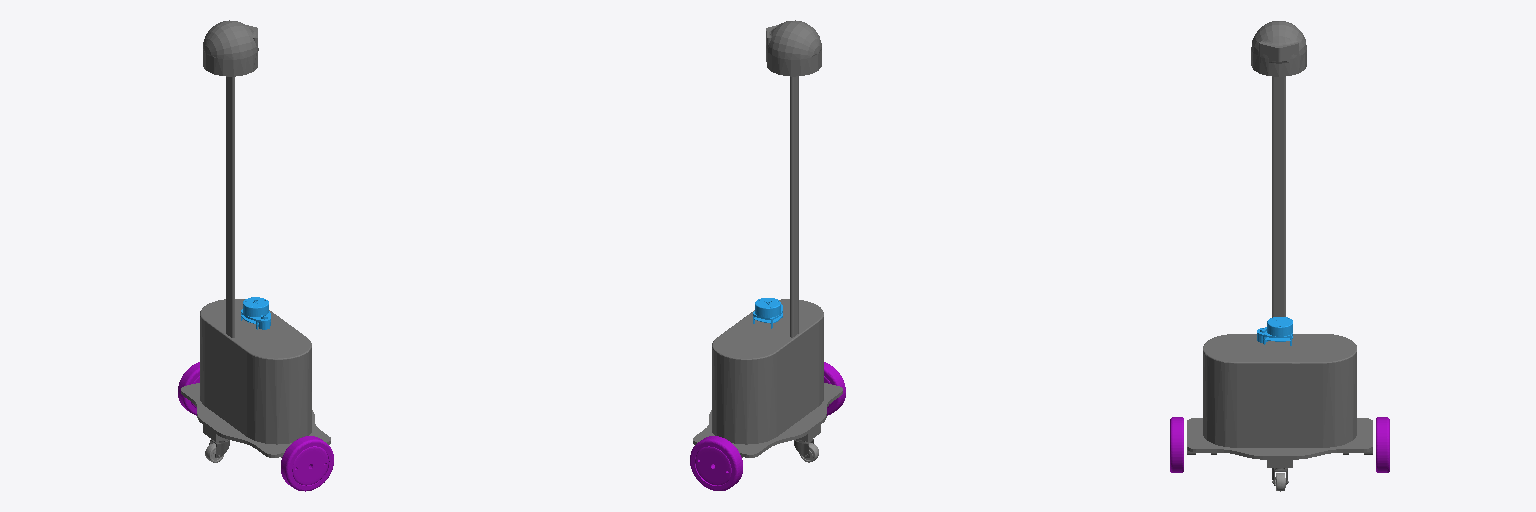
The robot description file, URDF, robot "AEP_Robot":
<?xml version="1.0" encoding="utf-8"?>
<!-- This URDF was automatically created by SolidWorks to URDF Exporter! Originally created by [author] ([email redacted]) 
     Commit Version: 1.6.0-1-g15f4949  Build Version: 1.6.7594.29634
     For more information, please see http://wiki.ros.org/sw_urdf_exporter -->
<robot
  name="AEP_Robot">
  <link
    name="base_link">
    <inertial>
      <origin
        xyz="-0.0023189 0.0073427 0.1843"
        rpy="0 0 0" />
      <mass
        value="15.896" />
      <inertia
        ixx="0.65725"
        ixy="-3.6456E-08"
        ixz="0.040641"
        iyy="0.58335"
        iyz="-2.2784E-12"
        izz="0.1582" />
    </inertial>
    <visual>
      <origin
        xyz="0 0 0"
        rpy="0 0 0" />
      <geometry>
        <mesh
          filename="package://AEP_Robot/meshes/base_link.STL" />
      </geometry>
      <material
        name="">
        <color
          rgba="0.5 0.5 0.5 1" />
      </material>
    </visual>
    <collision>
      <origin
        xyz="0 0 0"
        rpy="0 0 0" />
      <geometry>
        <mesh
          filename="package://AEP_Robot/meshes/base_link.STL" />
      </geometry>
    </collision>
  </link>
  <link
    name="lidar_link">
    <inertial>
      <origin
        xyz="-9.1926E-05 -0.0067665 -0.0073819"
        rpy="0 0 0" />
      <mass
        value="1.3308" />
      <inertia
        ixx="0.0009607"
        ixy="8.0198E-07"
        ixz="-3.0916E-06"
        iyy="0.00061492"
        iyz="-0.00015824"
        izz="0.0010982" />
    </inertial>
    <visual>
      <origin
        xyz="0 0 0"
        rpy="0 0 0" />
      <geometry>
        <mesh
          filename="package://AEP_Robot/meshes/lidar_link.STL" />
      </geometry>
      <material
        name="">
        <color
          rgba="0.2 0.7 1 1" />
      </material>
    </visual>
    <collision>
      <origin
        xyz="0 0 0"
        rpy="0 0 0" />
      <geometry>
        <mesh
          filename="package://AEP_Robot/meshes/lidar_link.STL" />
      </geometry>
    </collision>
  </link>
  <joint
    name="lidar_joint"
    type="fixed">
    <origin
      xyz="0 0.000420393431200835 0.32565"
      rpy="0 0 0" />
    <parent
      link="base_link" />
    <child
      link="lidar_link" />
    <axis
      xyz="0 0 0" />
  </joint>
  <link
    name="left_wheel_link">
    <inertial>
      <origin
        xyz="8.211E-08 -0.017522 -4.1793E-07"
        rpy="0 0 0" />
      <mass
        value="0.583" />
      <inertia
        ixx="0.00092026"
        ixy="2.1255E-10"
        ixz="8.2654E-07"
        iyy="0.0017198"
        iyz="-1.099E-09"
        izz="0.00091447" />
    </inertial>
    <visual>
      <origin
        xyz="0 0 0"
        rpy="0 0 0" />
      <geometry>
        <mesh
          filename="package://AEP_Robot/meshes/left_wheel_link.STL" />
      </geometry>
      <material
        name="">
        <color
          rgba="0.7 0.1 0.8 1" />
      </material>
    </visual>
    <collision>
      <origin
        xyz="0 0 0"
        rpy="0 0 0" />
      <geometry>
        <mesh
          filename="package://AEP_Robot/meshes/left_wheel_link.STL" />
      </geometry>
    </collision>
  </link>
  <joint
    name="left_wheel_joint"
    type="continuous">
    <origin
      xyz="0 0.29485 -0.025"
      rpy="0 0 0" />
    <parent
      link="base_link" />
    <child
      link="left_wheel_link" />
    <axis
      xyz="0 1 0" />
    <limit
      lower="0"
      upper="0"
      effort="0"
      velocity="0" />
  </joint>
  <link
    name="right_wheel_link">
    <inertial>
      <origin
        xyz="3.8174E-07 0.017522 1.8833E-07"
        rpy="0 0 0" />
      <mass
        value="0.583" />
      <inertia
        ixx="0.00091579"
        ixy="-1.3235E-09"
        ixz="-2.5693E-06"
        iyy="0.0017198"
        iyz="-7.3676E-10"
        izz="0.00091893" />
    </inertial>
    <visual>
      <origin
        xyz="0 0 0"
        rpy="0 0 0" />
      <geometry>
        <mesh
          filename="package://AEP_Robot/meshes/right_wheel_link.STL" />
      </geometry>
      <material
        name="">
        <color
          rgba="0.7 0.1 0.8 1" />
      </material>
    </visual>
    <collision>
      <origin
        xyz="0 0 0"
        rpy="0 0 0" />
      <geometry>
        <mesh
          filename="package://AEP_Robot/meshes/right_wheel_link.STL" />
      </geometry>
    </collision>
  </link>
  <joint
    name="right_wheel_joint"
    type="continuous">
    <origin
      xyz="0 -0.29485 -0.025"
      rpy="0 0 0" />
    <parent
      link="base_link" />
    <child
      link="right_wheel_link" />
    <axis
      xyz="0 1 0" />
    <limit
      lower="0"
      upper="0"
      effort="0"
      velocity="0" />
  </joint>
  <link
    name="front_castor_body_link">
    <inertial>
      <origin
        xyz="0.0055133 0.00033058 -0.0066169"
        rpy="0 0 0" />
      <mass
        value="0.011291" />
      <inertia
        ixx="4.0603E-06"
        ixy="1.367E-08"
        ixz="8.6782E-07"
        iyy="3.8335E-06"
        iyz="5.2075E-08"
        izz="4.4634E-06" />
    </inertial>
    <visual>
      <origin
        xyz="0 0 0"
        rpy="0 0 0" />
      <geometry>
        <mesh
          filename="package://AEP_Robot/meshes/front_castor_body_link.STL" />
      </geometry>
      <material
        name="">
        <color
          rgba="0.4 0.4 0.4 1" />
      </material>
    </visual>
    <collision>
      <origin
        xyz="0 0 0"
        rpy="0 0 0" />
      <geometry>
        <mesh
          filename="package://AEP_Robot/meshes/front_castor_body_link.STL" />
      </geometry>
    </collision>
  </link>
  <joint
    name="front_castor_body_joint"
    type="continuous">
    <origin
      xyz="0.105 0 -0.0415"
      rpy="0 0 0" />
    <parent
      link="base_link" />
    <child
      link="front_castor_body_link" />
    <axis
      xyz="0 0 1" />
    <limit
      lower="0"
      upper="0"
      effort="0"
      velocity="0" />
  </joint>
  <link
    name="front_castor_wheel_link">
    <inertial>
      <origin
        xyz="0.001327 -0.02196 3.518E-06"
        rpy="0 0 0" />
      <mass
        value="0.047259" />
      <inertia
        ixx="9.5221E-06"
        ixy="-2.7895E-07"
        ixz="2.5434E-09"
        iyy="1.4162E-05"
        iyz="1.5234E-10"
        izz="9.4977E-06" />
    </inertial>
    <visual>
      <origin
        xyz="0 0 0"
        rpy="0 0 0" />
      <geometry>
        <mesh
          filename="package://AEP_Robot/meshes/front_castor_wheel_link.STL" />
      </geometry>
      <material
        name="">
        <color
          rgba="0.6 0.6 0.6 1" />
      </material>
    </visual>
    <collision>
      <origin
        xyz="0 0 0"
        rpy="0 0 0" />
      <geometry>
        <mesh
          filename="package://AEP_Robot/meshes/front_castor_wheel_link.STL" />
      </geometry>
    </collision>
  </link>
  <joint
    name="front_castor_wheel_joint"
    type="continuous">
    <origin
      xyz="0.021643 0.023336 -0.033"
      rpy="0 0 0" />
    <parent
      link="front_castor_body_link" />
    <child
      link="front_castor_wheel_link" />
    <axis
      xyz="0.059789 0.99821 0" />
    <limit
      lower="0"
      upper="0"
      effort="0"
      velocity="0" />
  </joint>
  <link
    name="back_castor_body_link">
    <inertial>
      <origin
        xyz="-0.0055142 -0.00031498 -0.0066169"
        rpy="0 0 0" />
      <mass
        value="0.011291" />
      <inertia
        ixx="4.0603E-06"
        ixy="1.3028E-08"
        ixz="-8.6797E-07"
        iyy="3.8334E-06"
        iyz="-4.9618E-08"
        izz="4.4634E-06" />
    </inertial>
    <visual>
      <origin
        xyz="0 0 0"
        rpy="0 0 0" />
      <geometry>
        <mesh
          filename="package://AEP_Robot/meshes/back_castor_body_link.STL" />
      </geometry>
      <material
        name="">
        <color
          rgba="0.4 0.4 0.4 1" />
      </material>
    </visual>
    <collision>
      <origin
        xyz="0 0 0"
        rpy="0 0 0" />
      <geometry>
        <mesh
          filename="package://AEP_Robot/meshes/back_castor_body_link.STL" />
      </geometry>
    </collision>
  </link>
  <joint
    name="back_castor_body_joint"
    type="continuous">
    <origin
      xyz="-0.105 0 -0.0415"
      rpy="0 0 0" />
    <parent
      link="base_link" />
    <child
      link="back_castor_body_link" />
    <axis
      xyz="0 0 1" />
    <limit
      lower="0"
      upper="0"
      effort="0"
      velocity="0" />
  </joint>
  <link
    name="back_castor_wheel_link">
    <inertial>
      <origin
        xyz="0.001265 -0.021964 -2.6984E-06"
        rpy="0 0 0" />
      <mass
        value="0.047259" />
      <inertia
        ixx="9.5208E-06"
        ixy="-2.6579E-07"
        ixz="-1.9877E-09"
        iyy="1.4164E-05"
        iyz="-1.1341E-10"
        izz="9.4974E-06" />
    </inertial>
    <visual>
      <origin
        xyz="0 0 0"
        rpy="0 0 0" />
      <geometry>
        <mesh
          filename="package://AEP_Robot/meshes/back_castor_wheel_link.STL" />
      </geometry>
      <material
        name="">
        <color
          rgba="0.6 0.6 0.6 1" />
      </material>
    </visual>
    <collision>
      <origin
        xyz="0 0 0"
        rpy="0 0 0" />
      <geometry>
        <mesh
          filename="package://AEP_Robot/meshes/back_castor_wheel_link.STL" />
      </geometry>
    </collision>
  </link>
  <joint
    name="back_castor_wheel_joint"
    type="continuous">
    <origin
      xyz="-0.024216 0.020654 -0.033"
      rpy="0 0 0" />
    <parent
      link="back_castor_body_link" />
    <child
      link="back_castor_wheel_link" />
    <axis
      xyz="0.056964 0.99838 0" />
    <limit
      lower="0"
      upper="0"
      effort="0"
      velocity="0" />
  </joint>
</robot>

--- What the picture shows (computed from the rendered views, not written in the file) ---
The picture shows the robot from 3 angles, left to right: view 1: azimuth 30°, elevation 25°; view 2: azimuth 150°, elevation 25°; view 3: azimuth 270°, elevation 25°; orthographic projection.
Model AEP_Robot with 8 links and 7 joints (6 continuous, 1 fixed), rooted at base_link, posed all joints at 0.
Visible links, largest first — view 1: base_link, right_wheel_link, lidar_link, left_wheel_link; view 2: base_link, left_wheel_link, lidar_link, right_wheel_link; view 3: base_link, left_wheel_link, right_wheel_link, lidar_link.
Boxes of the visible links, box(x1,y1,x2,y2) form: base_link: box(181, 20, 330, 457); right_wheel_link: box(281, 436, 333, 491); lidar_link: box(241, 297, 270, 329); left_wheel_link: box(178, 362, 199, 415); base_link: box(693, 20, 842, 457); left_wheel_link: box(690, 436, 742, 490); lidar_link: box(753, 298, 782, 328); right_wheel_link: box(824, 362, 845, 415); base_link: box(1187, 21, 1372, 468); left_wheel_link: box(1376, 417, 1389, 472); right_wheel_link: box(1170, 417, 1183, 472); lidar_link: box(1257, 317, 1292, 345).
Bounding box of the posed robot: 0.3083 × 0.5897 × 1.29 m (x, y, z).
Meshes: 8 distinct files referenced, 8 mesh visuals loaded (8 binary STL).